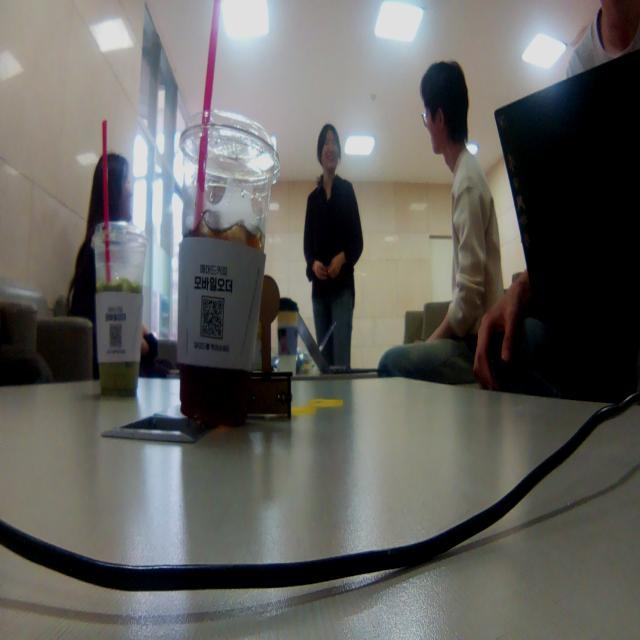target: (247, 274, 292, 422)
